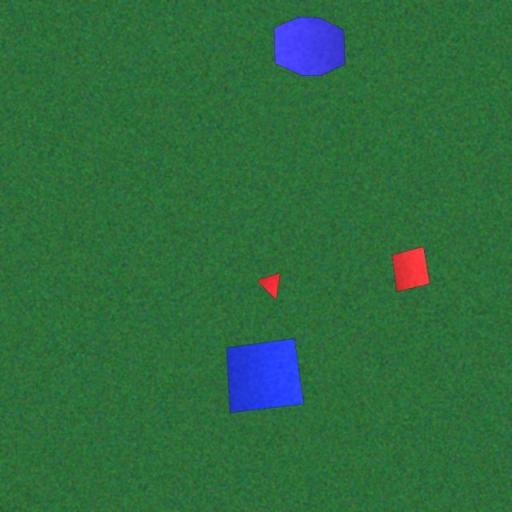BLUE_SQUARE: (226, 338, 304, 414)
RED_SQUARE: (392, 246, 430, 293)
